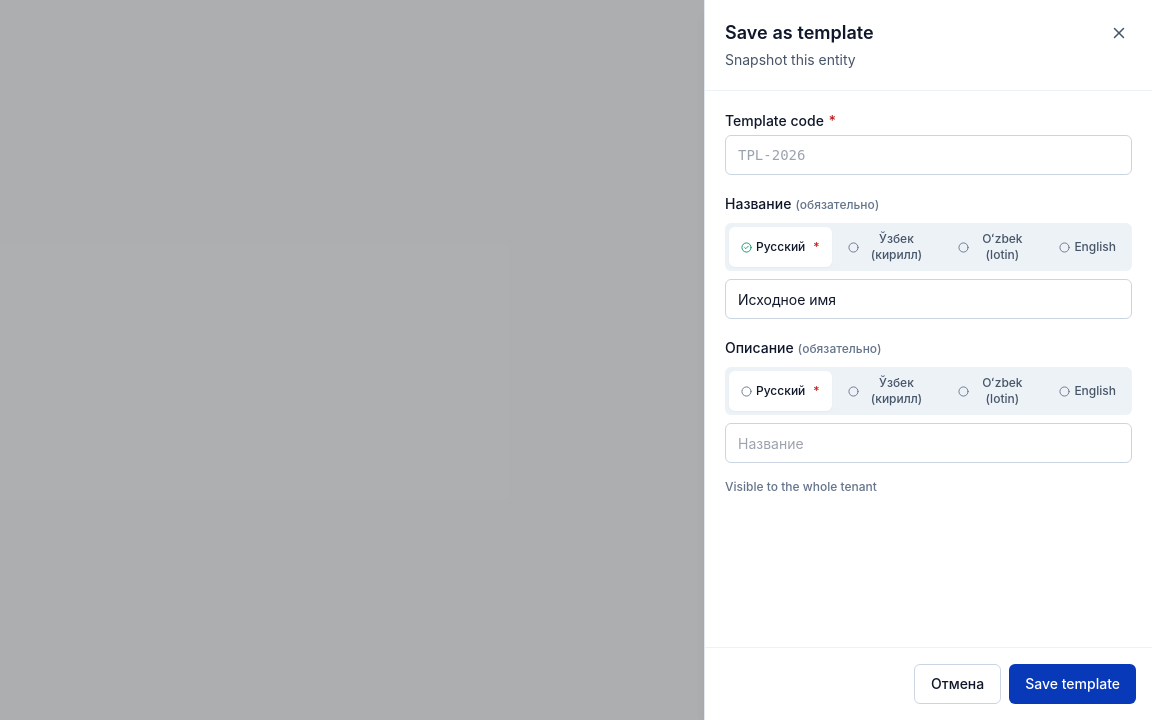
Test: <SaveAsTemplateDrawer /> (shared) › falls back to the generic error when neither duplicate nor field errors apply
Type "tpl-1" into the field with test id "fake-save-template-code" at (928, 155), box x1=725 y1=135 x2=1132 y2=175
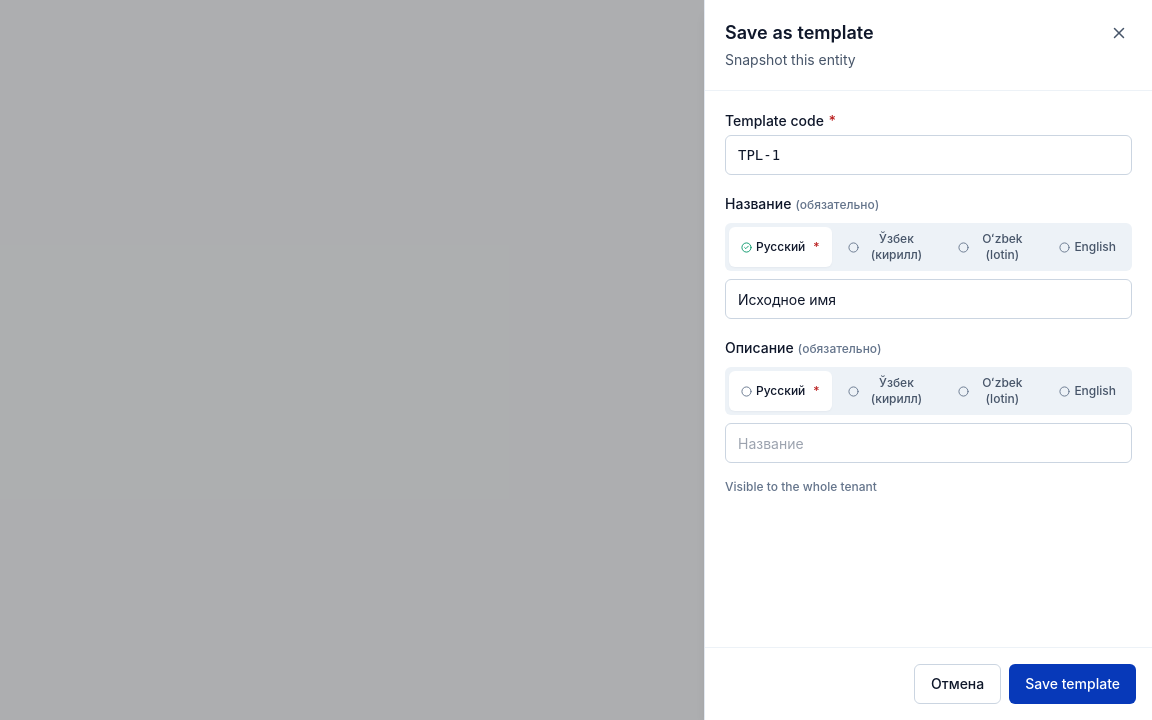
Click the button "Save template" at (1073, 684), box x1=1009 y1=664 x2=1136 y2=704
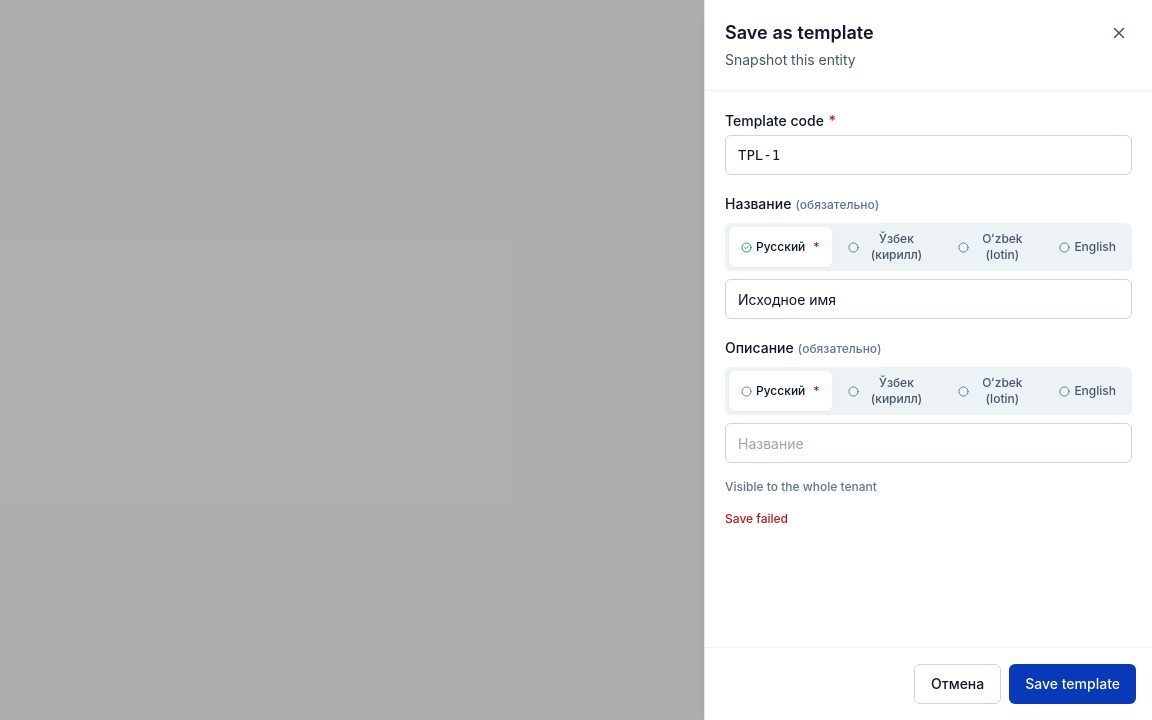
Result: the message with test id "fake-save-template-error" reads "Save failed" at x1=725 y1=511 x2=788 y2=526
